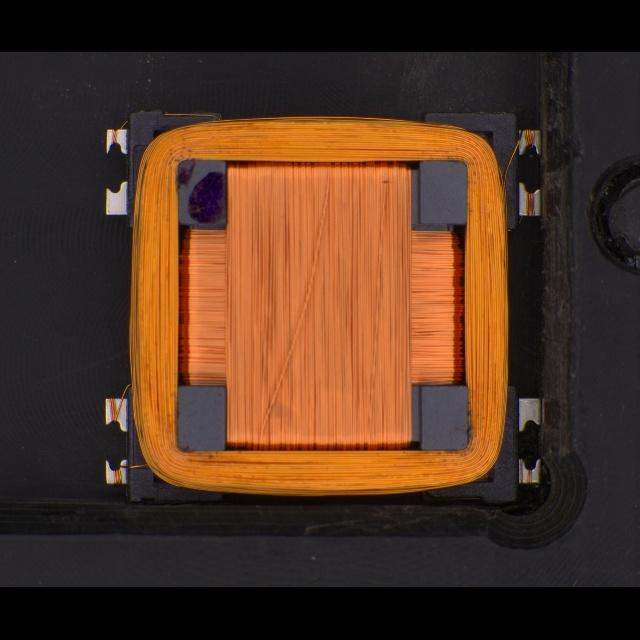Winding_Z: (121, 110, 515, 500)
